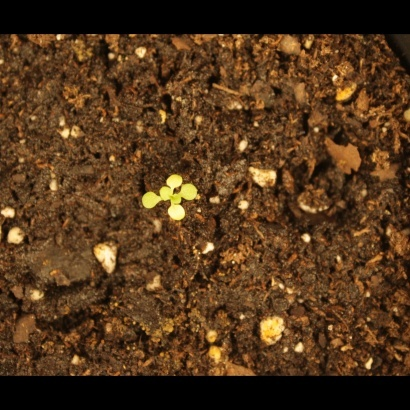leaf: (135, 189, 163, 215), (166, 201, 189, 224), (179, 182, 202, 205), (163, 170, 186, 193), (155, 181, 178, 204)
